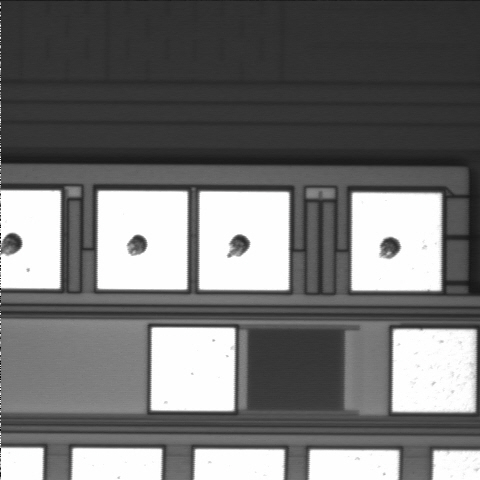pad: (199, 192, 289, 290), (98, 191, 187, 290), (352, 193, 441, 291), (151, 328, 235, 411), (393, 329, 476, 412)
